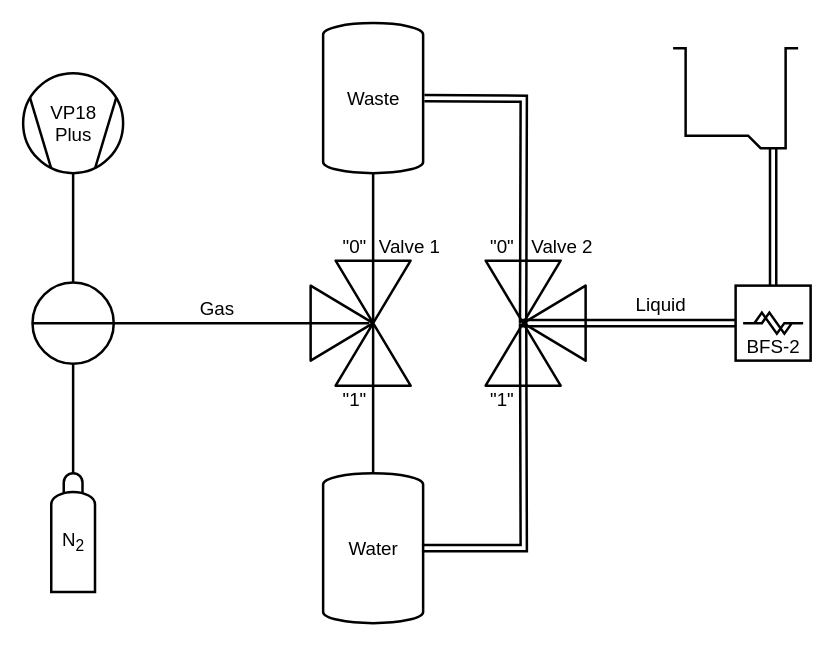
Image size: 838x645. Some labels were removed from this diagram. Each missing label, with the centre of its shape:
PC OB1: the point at 72,322
Transfer Stage: the point at 735,97
